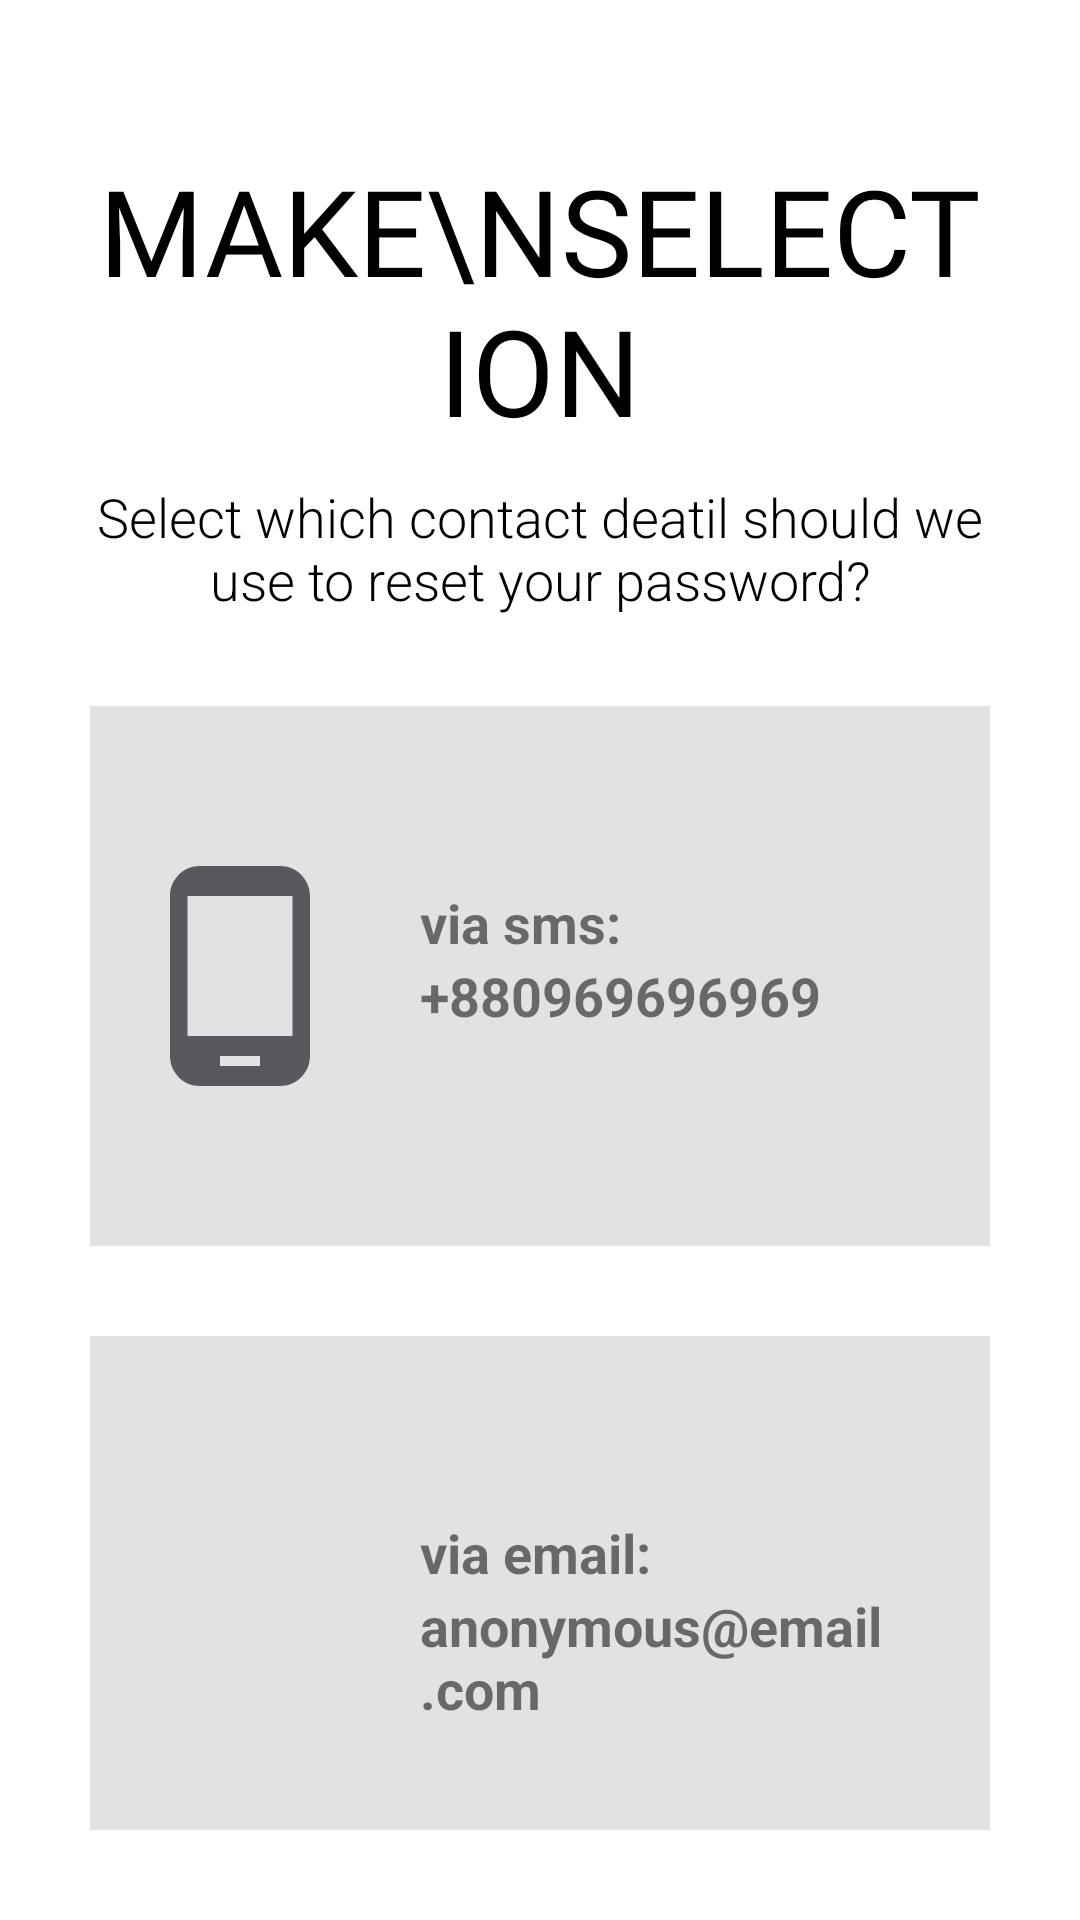

Point at icon controls on the screen. Image size 1080w x 1920h, points as [x,y].
phone: [240,976]
